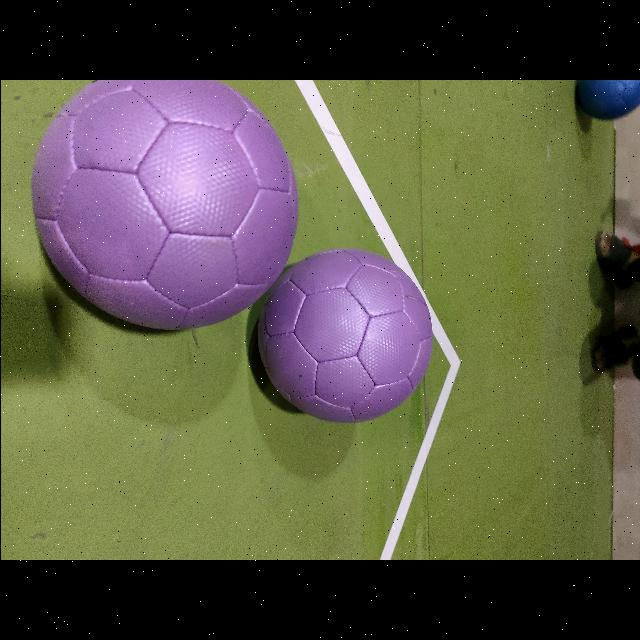B: (576, 80, 640, 120)
P: (31, 80, 297, 330), (248, 257, 430, 413)
